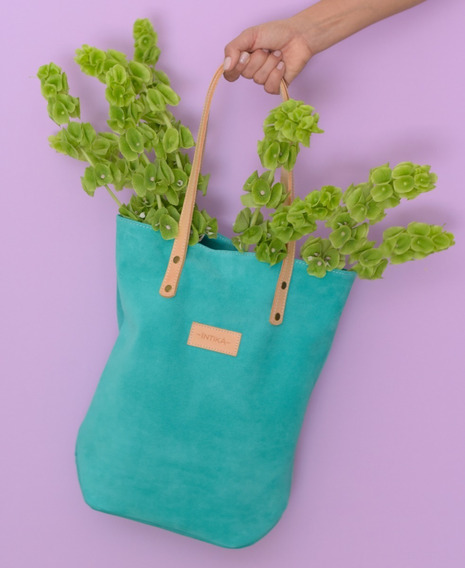cartera: (75, 57, 357, 551)
